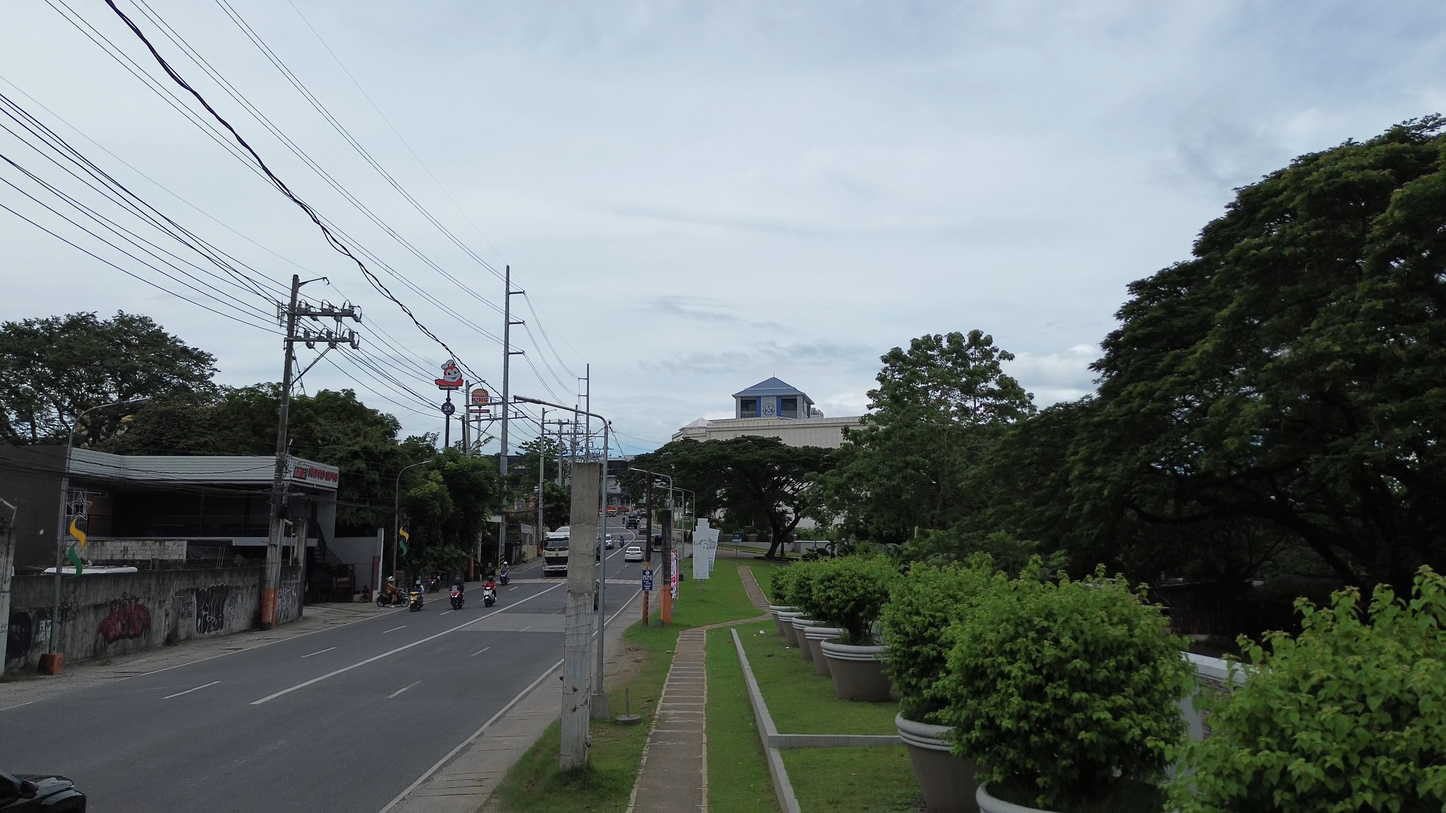motorcycle: (376, 590, 406, 607), (409, 588, 423, 611), (483, 587, 496, 607), (428, 575, 441, 592), (499, 572, 509, 585)
vehicle: (0, 771, 87, 813), (543, 526, 569, 575), (449, 586, 464, 610), (624, 545, 644, 562), (409, 587, 423, 611), (484, 586, 496, 606), (604, 534, 614, 549), (625, 518, 638, 529)
